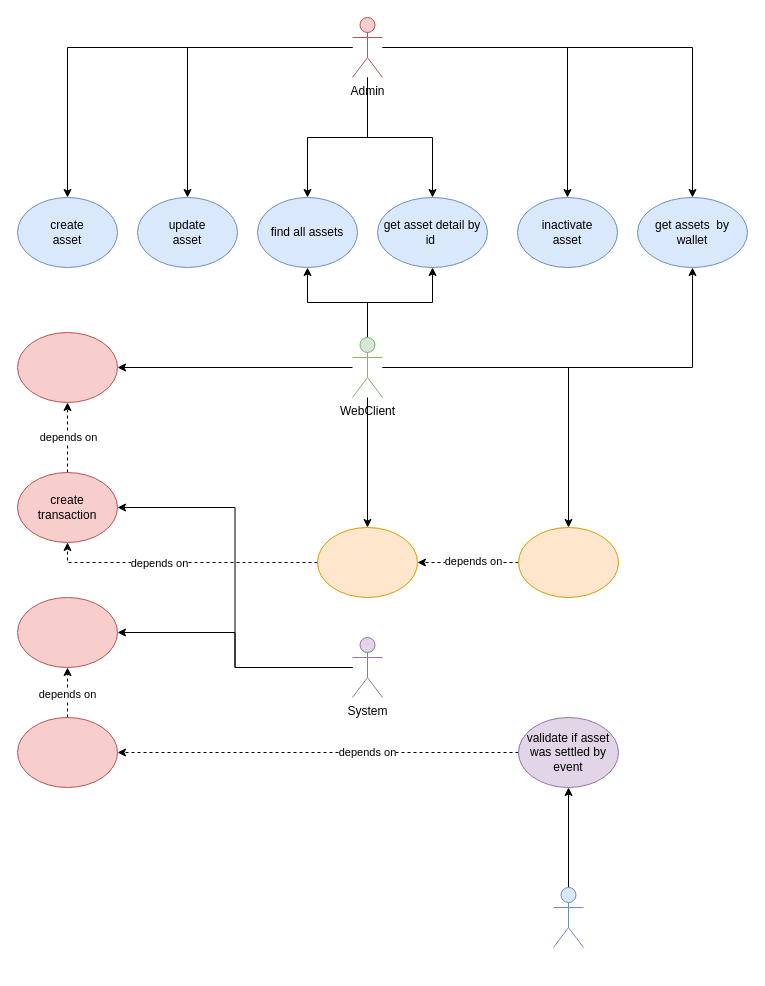
The diagram is 765 pixels wide and 986 high, and some of its shapes have lost their labels. Here are the shapes that lost their labels. From the top down, the box of each, then its label:
(16, 332, 118, 402): insurance checkout
(316, 526, 418, 598): get transactions by wallet
(518, 526, 618, 598): validate if wallet has any asset
(16, 596, 118, 668): blockchain event listener
(16, 716, 118, 788): update asset after event
(552, 886, 584, 948): Chainlink Function
